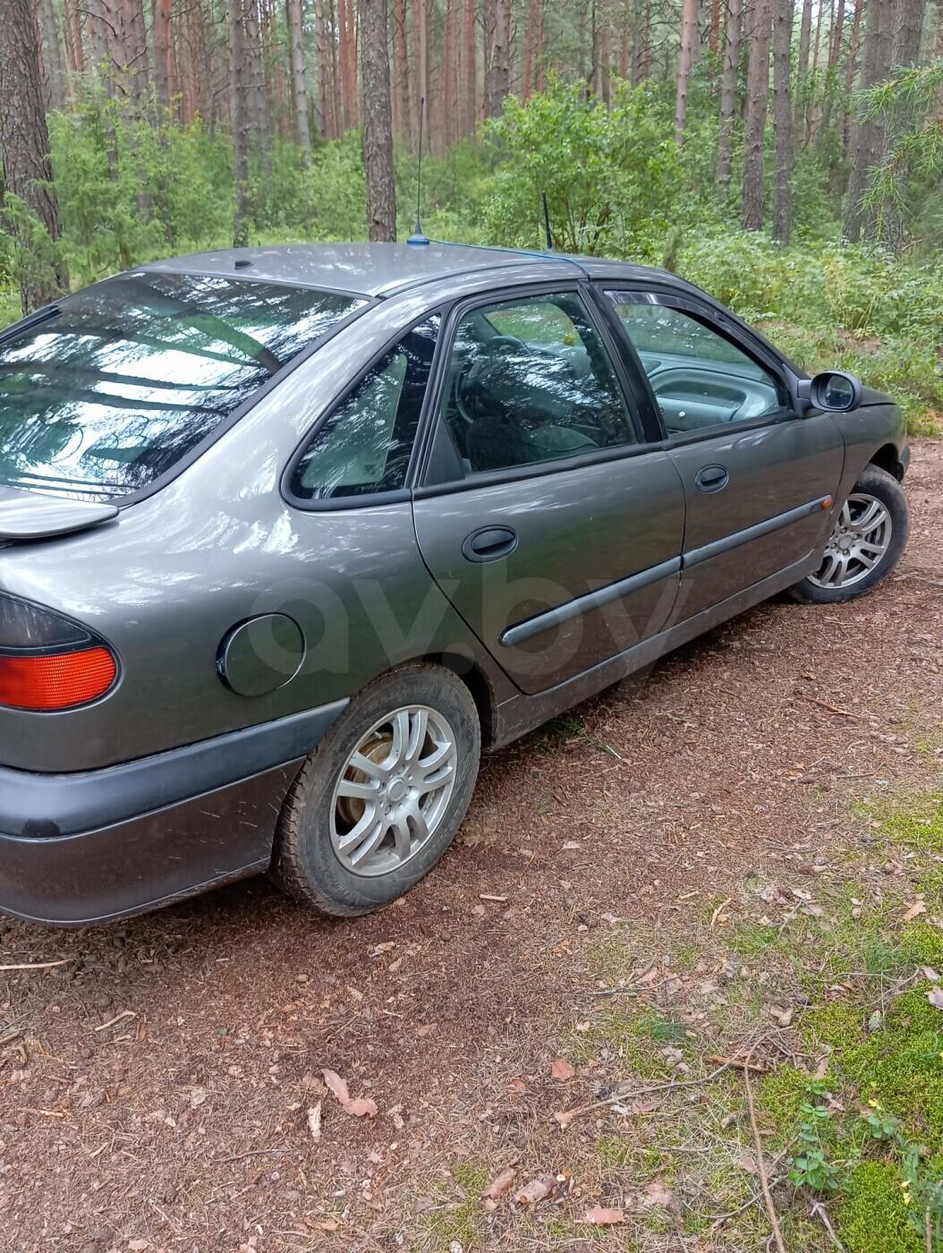Lahuna_1993-1999: (0, 236, 916, 940)
